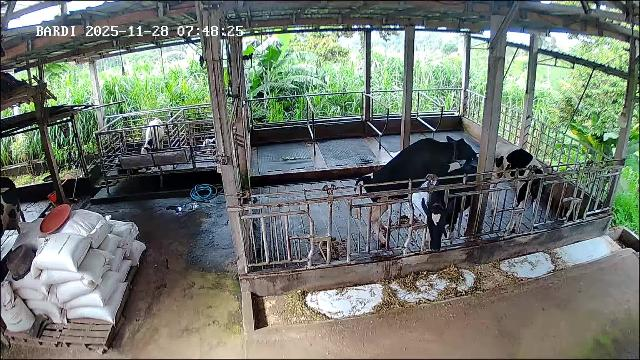mounting: (367, 136, 476, 246)
